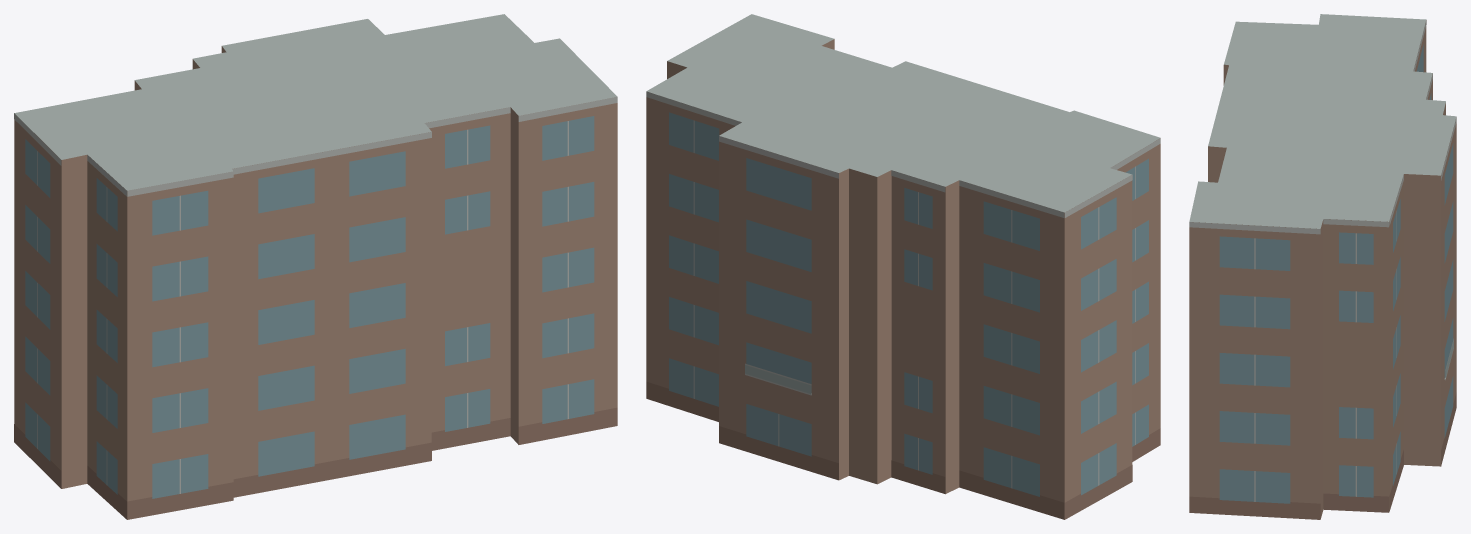
The model's file is survey-upis-32461535.glb.
3 renders of one model, left to right at view 1: azimuth 30°, elevation 25°; view 2: azimuth 150°, elevation 25°; view 3: azimuth 270°, elevation 25°, orthographic. The views are drawn at different scales.
Visible parts, largest first — view 1: survey-upis-32461535.tmp; view 2: survey-upis-32461535.tmp; view 3: survey-upis-32461535.tmp.
Part boxes in pixels (bbox=[...]): survey-upis-32461535.tmp: bbox=[14, 14, 617, 519]; survey-upis-32461535.tmp: bbox=[646, 14, 1160, 519]; survey-upis-32461535.tmp: bbox=[1189, 14, 1456, 519].
Bounding box in the file's own units: 20.77 × 13.1 × 10.92.
